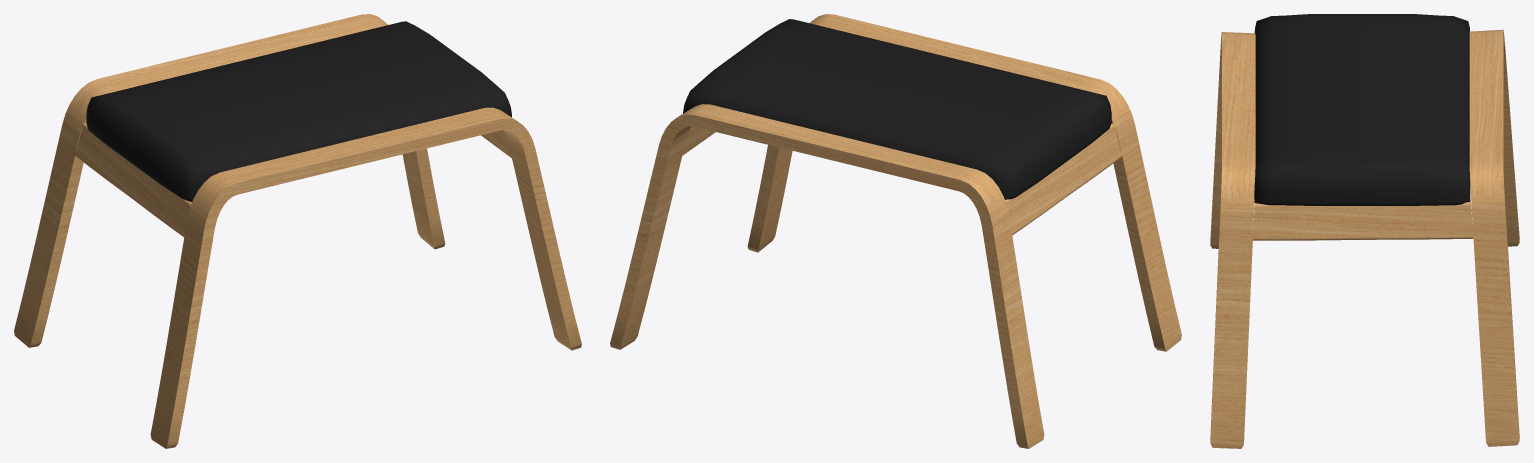
Rendered from IKEA-Paong_Footstool-3D.obj.
3 views of the same model, side by side, from view 1: azimuth 30°, elevation 25°; view 2: azimuth 150°, elevation 25°; view 3: azimuth 270°, elevation 25° (orthographic).
Visible parts, largest first — view 1: Loft05, Box02; view 2: Loft05, Box02; view 3: Box02, Loft05.
Part boxes in pixels (<box>): Loft05: <box>14,14,581,448</box>; Box02: <box>86,21,511,201</box>; Loft05: <box>610,14,1181,448</box>; Box02: <box>683,19,1111,199</box>; Box02: <box>1254,14,1470,205</box>; Loft05: <box>1210,29,1519,448</box>.
Size of the model in its own units: 899 by 530 by 575.
